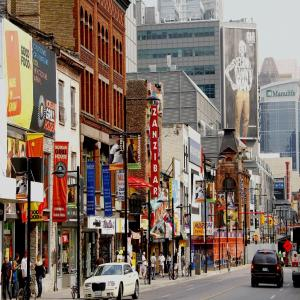Vehicle-registration-plate: (97, 290, 103, 296), (264, 267, 269, 273)
